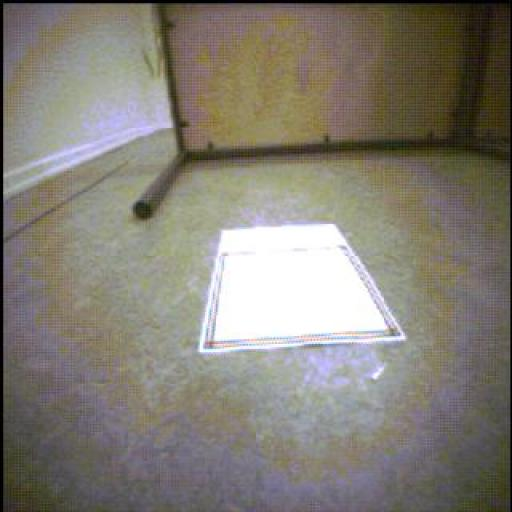Pad: (201, 225, 406, 353)
